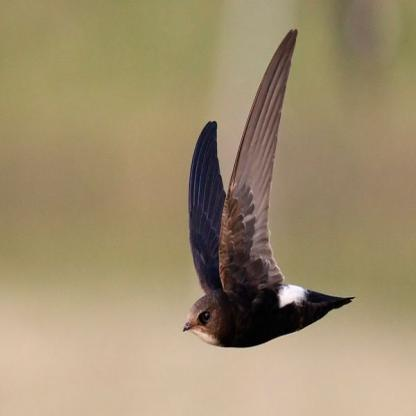Burung: (182, 28, 356, 347)
